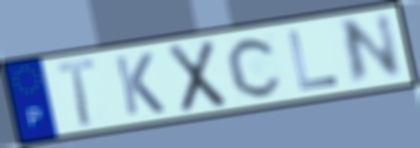C: (225, 35, 286, 100)
K: (111, 51, 168, 118)
L: (284, 29, 341, 93)
N: (338, 11, 406, 89)
T: (53, 56, 99, 130)
X: (165, 37, 229, 116)
